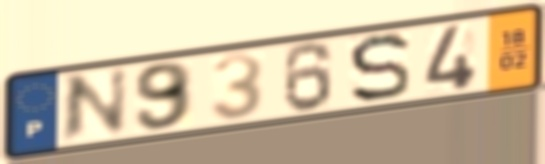3: (208, 49, 267, 125)
4: (421, 21, 480, 94)
6: (280, 39, 335, 116)
9: (131, 59, 199, 133)
N: (57, 64, 131, 148)
S: (345, 31, 413, 106)
